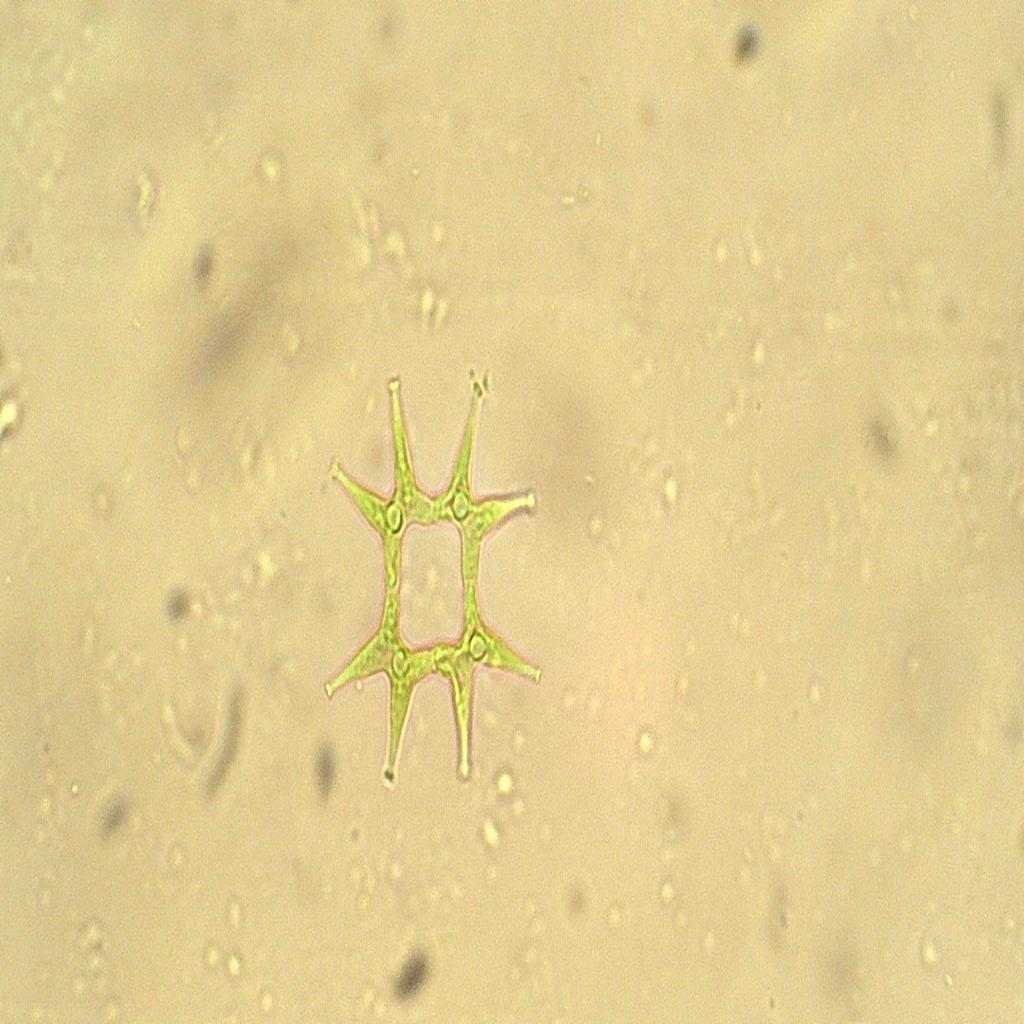Pediastrum_CO: (308, 348, 560, 804)
